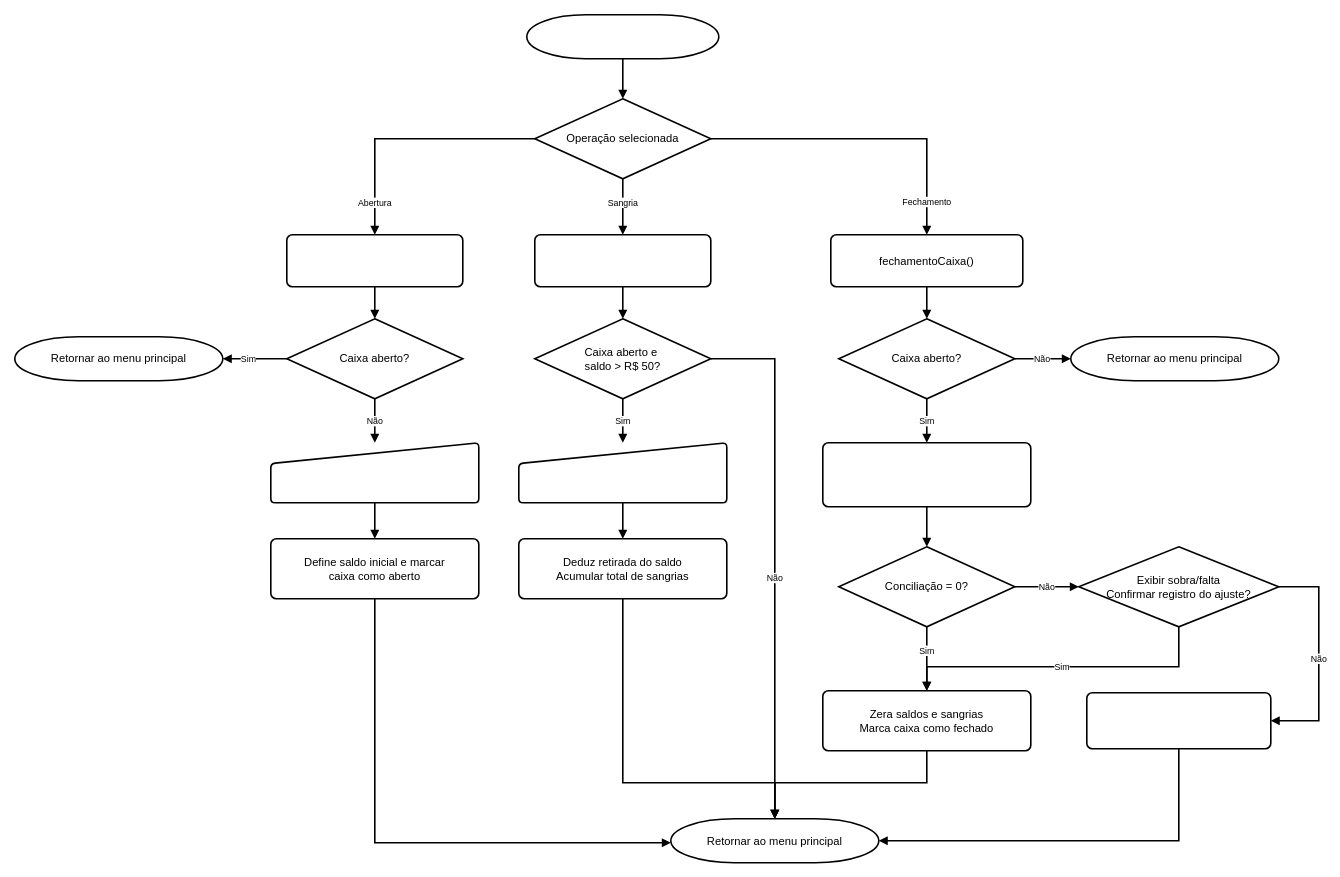
This 1340x877 diagram has some shape labels left out. Here are the shapes that lost their labels. From the top down, the centre of each, then its label:
pixel 622 36: Operações de caixa
pixel 374 260: aberturaCaixa()
pixel 622 260: realizarSangria()
pixel 374 472: Lê fundo de troco Valor não pode ser negativo
pixel 622 472: Lê retirada Valor > 0 e preservar R$ 50
pixel 926 474: Calcula vendas pagas, faturamento e totais por forma de pagamento
pixel 1178 720: Se não confirmar, impedir o fechamento
